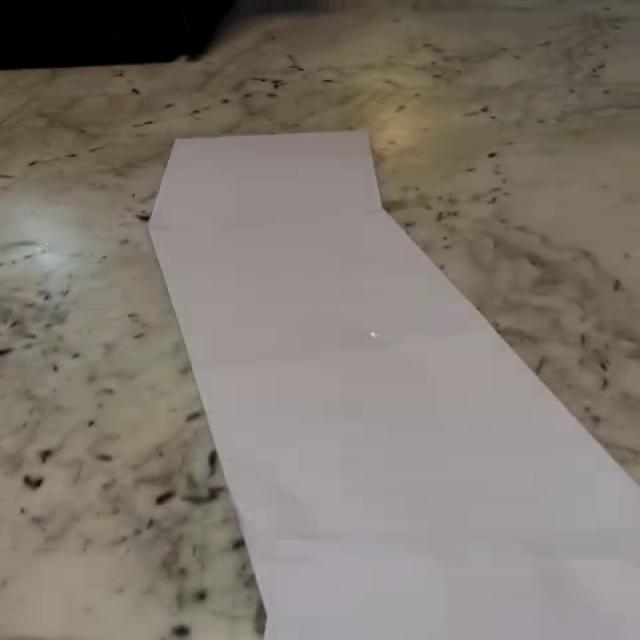road: (149, 131, 638, 640)
